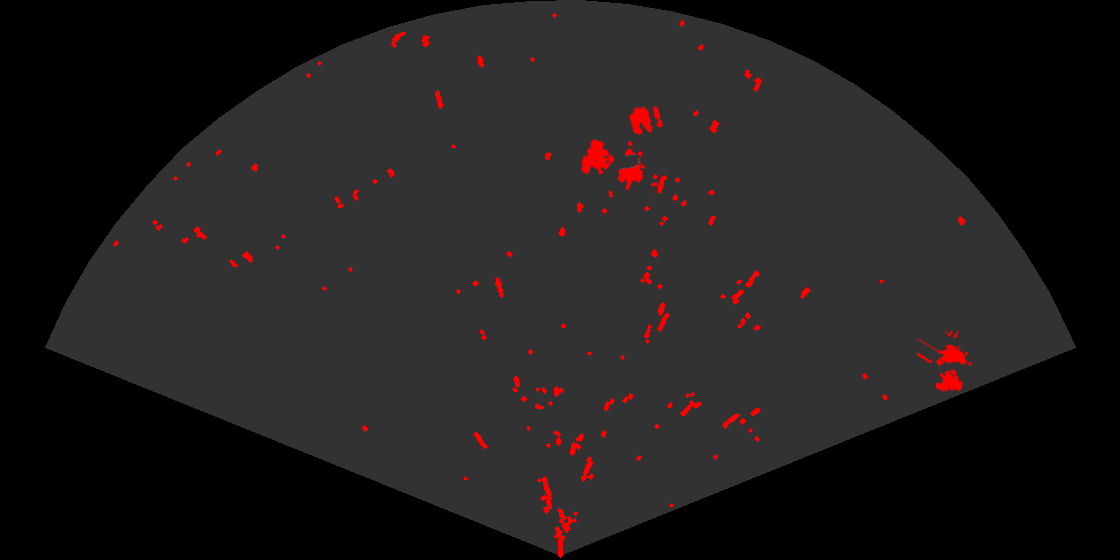ball: (628, 104, 664, 137)
cage: (579, 138, 658, 197), (917, 331, 974, 393)
